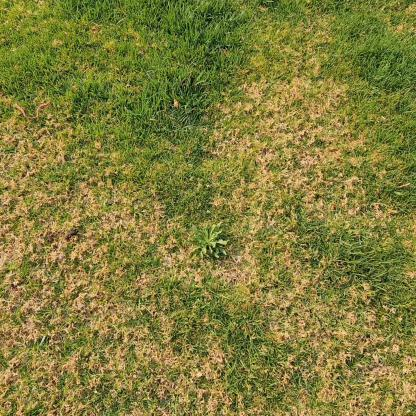Weeds: (187, 221, 230, 260)
